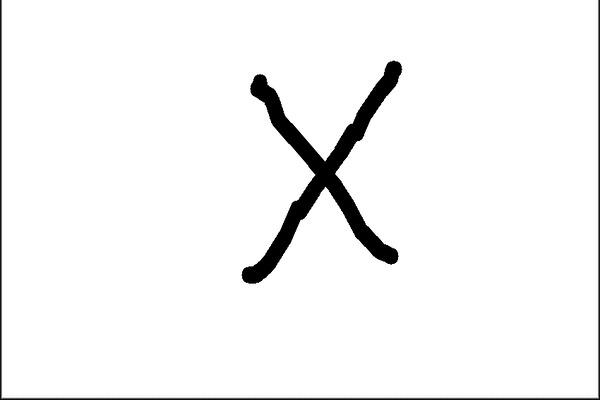Z: (207, 41, 415, 310)
